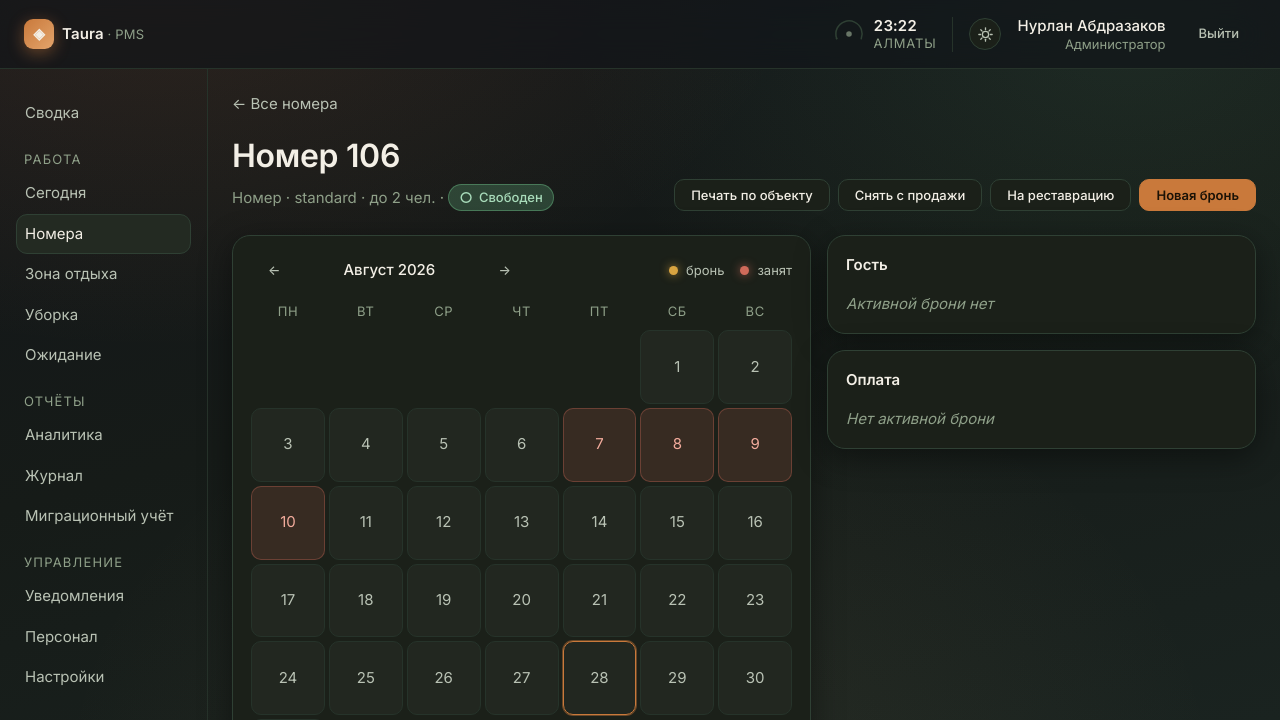
it: currency selector › offers KZT, USD and CNY in the booking form, defaulting to KZT
Click the button "Новая бронь" at (1198, 195), box [1139,179,1256,211]
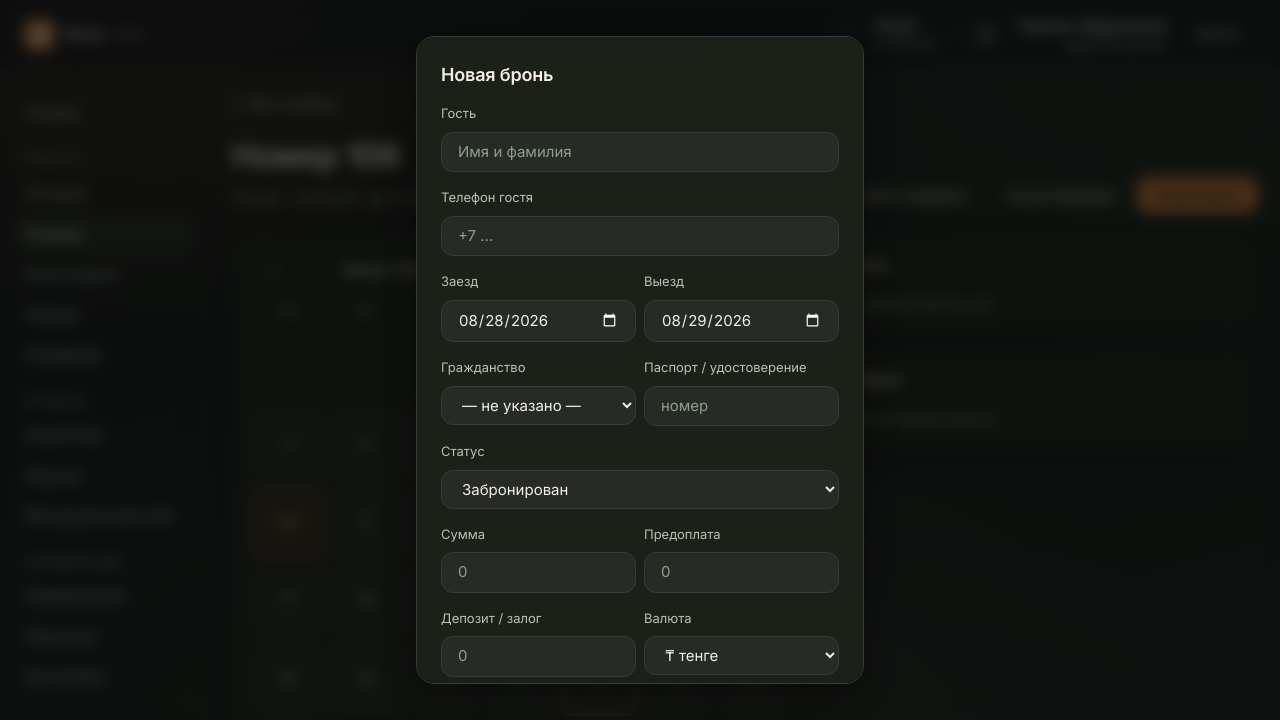
expect the dropdown labelled "Валюта" shows "₸ тенге": met, box [644,636,839,675]
